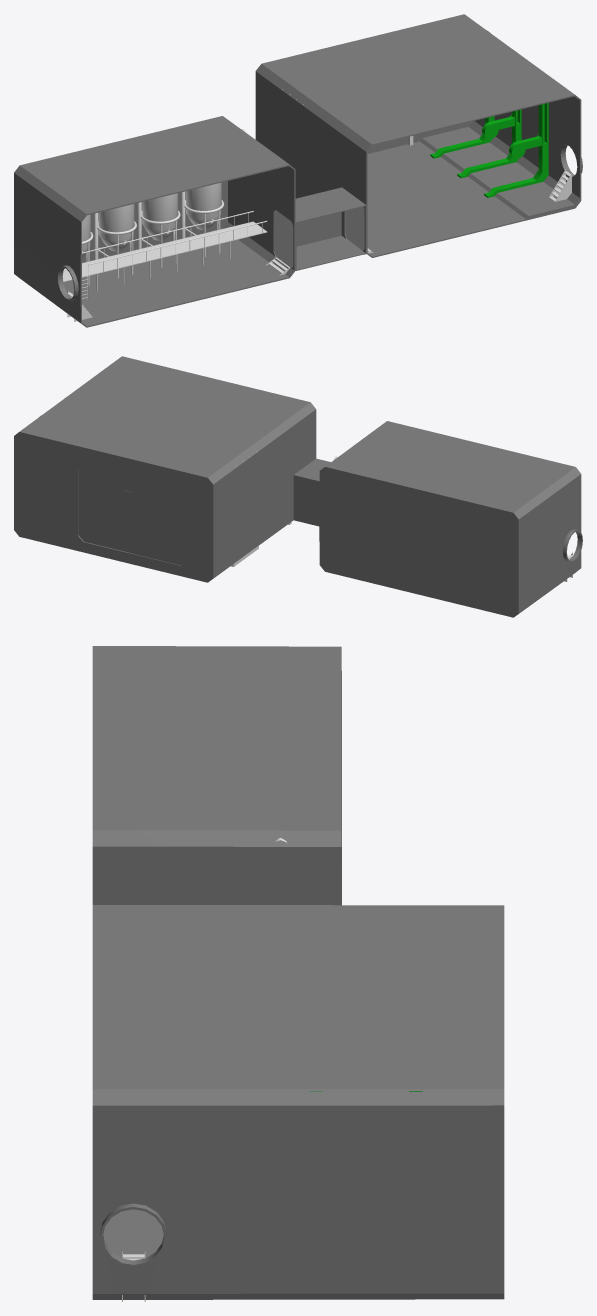
File: sala2_Blockout.FBX
3 views of the same model, one above another, from view 1: azimuth 30°, elevation 25°; view 2: azimuth 150°, elevation 25°; view 3: azimuth 270°, elevation 25° (orthographic). The views are drawn at different scales.
Visible parts, largest first — view 1: Sala2y3, Pasarela-01, Silo-02, Silo-01, Silo-03, cargador-Robot-01, cargador-Robot-02, PuertaConector-01, PuertaConector-02, cargador-Robot-03, Escaleras002, Silo-04; view 2: Sala2y3, puertaRobots-L, puertaRobots-R; view 3: Sala2y3.
Boxes of the visible parts, bbox=[...] form: Sala2y3: bbox=[14, 14, 582, 327]; Pasarela-01: bbox=[62, 211, 267, 300]; Silo-02: bbox=[137, 193, 180, 267]; Silo-01: bbox=[181, 182, 224, 256]; Silo-03: bbox=[94, 204, 136, 278]; cargador-Robot-01: bbox=[484, 103, 548, 197]; cargador-Robot-02: bbox=[457, 109, 521, 178]; PuertaConector-01: bbox=[274, 210, 293, 267]; PuertaConector-02: bbox=[345, 207, 364, 250]; cargador-Robot-03: bbox=[430, 31, 494, 158]; Escaleras002: bbox=[549, 168, 572, 201]; Silo-04: bbox=[73, 214, 93, 288]; Sala2y3: bbox=[14, 356, 582, 617]; puertaRobots-L: bbox=[123, 477, 187, 565]; puertaRobots-R: bbox=[78, 465, 132, 553]; Sala2y3: bbox=[92, 646, 504, 1299].
Bounding box in the file's own units: 3978 × 850 × 1504.
